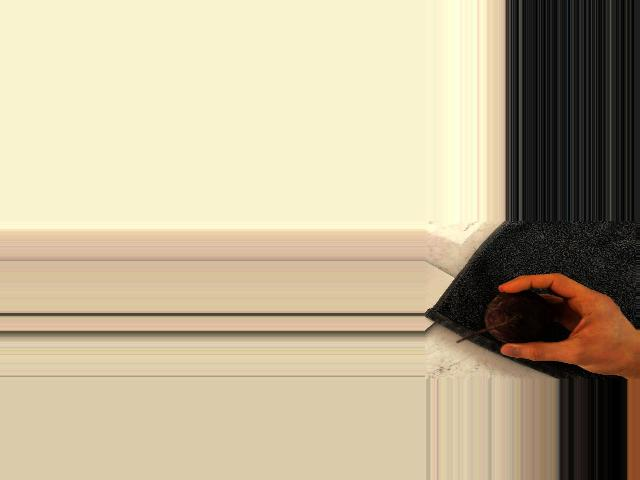beet: (455, 290, 552, 343)
